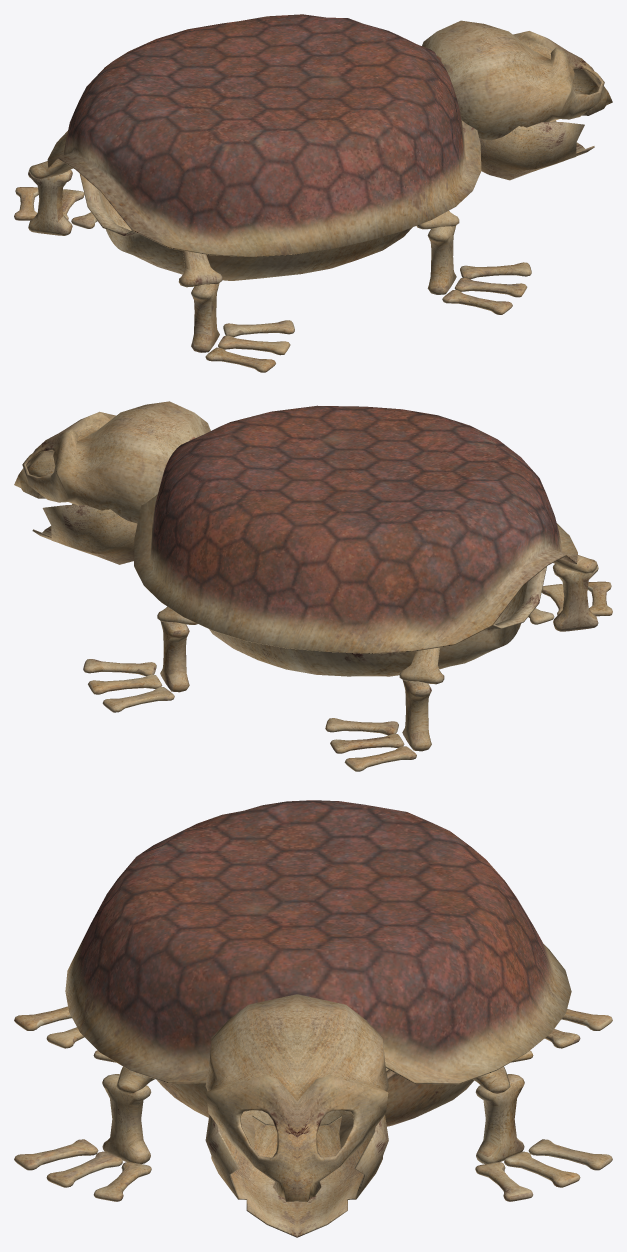
Rendered from deadturtle.fbx.
3 views of the same model, one above another, from view 1: azimuth 30°, elevation 25°; view 2: azimuth 150°, elevation 25°; view 3: azimuth 270°, elevation 25° (orthographic). The views are drawn at different scales.
Visible parts, largest first — view 1: Turdle; view 2: Turdle; view 3: Turdle.
Part boxes in pixels (<box>): Turdle: <box>14,14,612,372</box>; Turdle: <box>14,401,612,771</box>; Turdle: <box>14,800,612,1237</box>.
Bounding box in the file's own units: 680 × 227 × 557.
